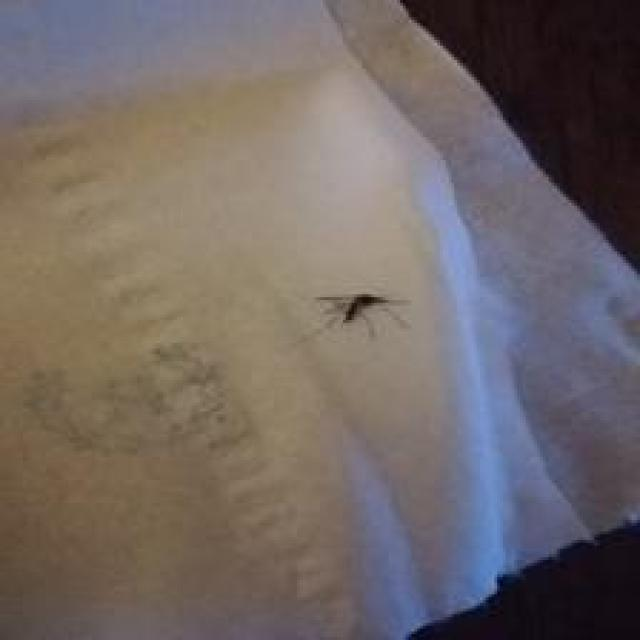Aedes albopictus: (314, 291, 412, 340)
